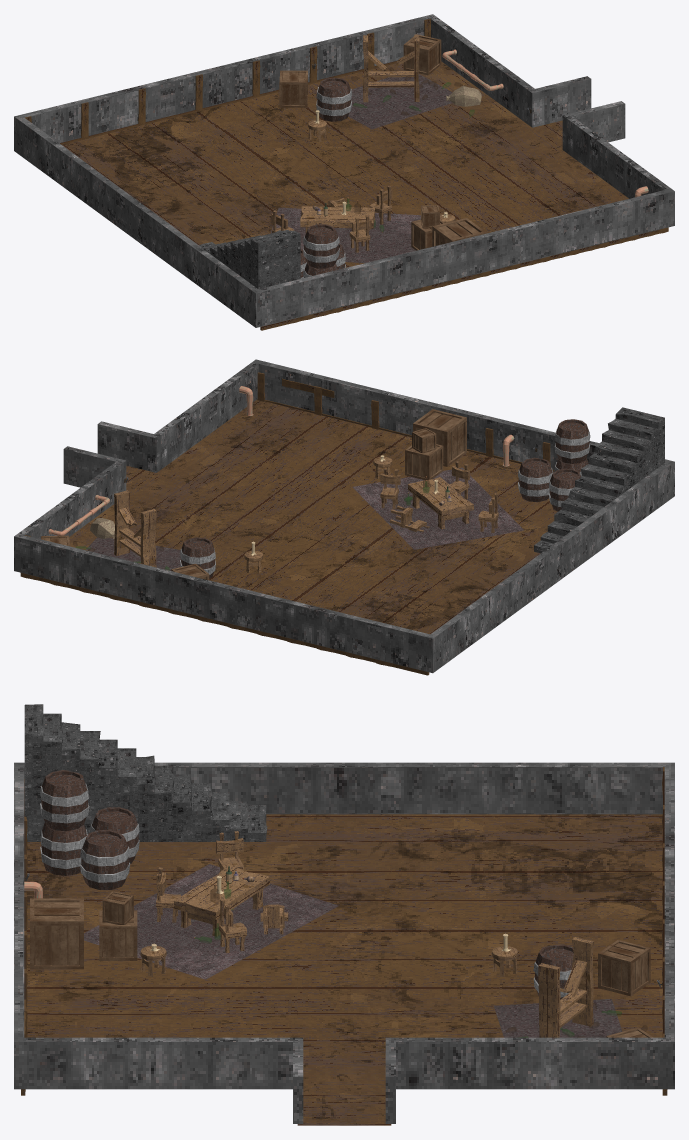
The model's file is main_Menu.glb.
The picture shows the model from 3 angles, top to bottom: view 1: azimuth 30°, elevation 25°; view 2: azimuth 150°, elevation 25°; view 3: azimuth 270°, elevation 25°; orthographic projection. The views are drawn at different scales.
Visible parts, largest first — view 1: floor, Plane.001, Cube, Plane.003, Plane, Cube.032, Cube.033, beczka.001, beczka.004, Cube.020, Cube.002, Cube.027 (+7 smaller); view 2: floor, Plane.001, Cube, Plane, Cube.020, Cube.036, Cube.002, Cube.016, beczka.001, beczka.003, Plane.003, Cube.015 (+6 smaller); view 3: floor, Plane.001, Cube, Plane, Cube.016, Cube.020, Cube.002, Plane.003, beczka.001, beczka.003, Cube.028, beczka (+10 smaller).
Boxes of the visible parts, bbox=[...] form: floor: bbox=[62, 61, 628, 267]; Plane.001: bbox=[14, 14, 674, 327]; Cube: bbox=[199, 229, 300, 288]; Plane.003: bbox=[348, 74, 452, 129]; Plane: bbox=[270, 207, 420, 262]; Cube.032: bbox=[260, 227, 668, 330]; Cube.033: bbox=[25, 18, 430, 139]; beczka.001: bbox=[303, 224, 339, 268]; beczka.004: bbox=[316, 77, 352, 121]; Cube.020: bbox=[363, 34, 419, 102]; Cube.002: bbox=[300, 206, 374, 241]; Cube.027: bbox=[403, 34, 441, 75]; floor: bbox=[69, 400, 557, 633]; Plane.001: bbox=[14, 359, 674, 673]; Cube: bbox=[534, 407, 664, 553]; Plane: bbox=[352, 467, 524, 549]; Cube.020: bbox=[114, 490, 156, 567]; Cube.036: bbox=[20, 573, 429, 675]; Cube.002: bbox=[408, 477, 473, 529]; Cube.016: bbox=[413, 409, 466, 466]; beczka.001: bbox=[554, 419, 590, 463]; beczka.003: bbox=[518, 457, 553, 501]; Plane.003: bbox=[86, 537, 180, 570]; Cube.015: bbox=[405, 444, 443, 479]; floor: bbox=[27, 814, 662, 1125]; Plane.001: bbox=[14, 762, 674, 1123]; Cube: bbox=[24, 704, 267, 841]; Plane: bbox=[84, 864, 338, 979]; Cube.016: bbox=[30, 898, 83, 969]; Cube.020: bbox=[538, 937, 593, 1037]; Cube.002: bbox=[174, 865, 269, 936]; Plane.003: bbox=[493, 999, 622, 1037]; beczka.001: bbox=[40, 770, 89, 831]; beczka.003: bbox=[80, 830, 130, 889]; Cube.028: bbox=[598, 940, 650, 996]; beczka: bbox=[40, 823, 87, 875].
Bounding box in the file's own units: 36 × 6.34 × 32.
Materials: 23 (21 with a texture image).
